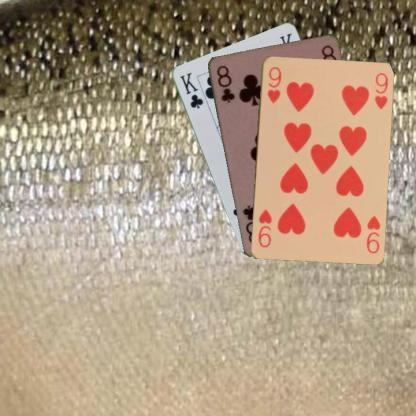8c: (214, 61, 236, 104)
9h: (264, 64, 283, 104), (364, 212, 382, 254)
Kc: (176, 69, 204, 110)
